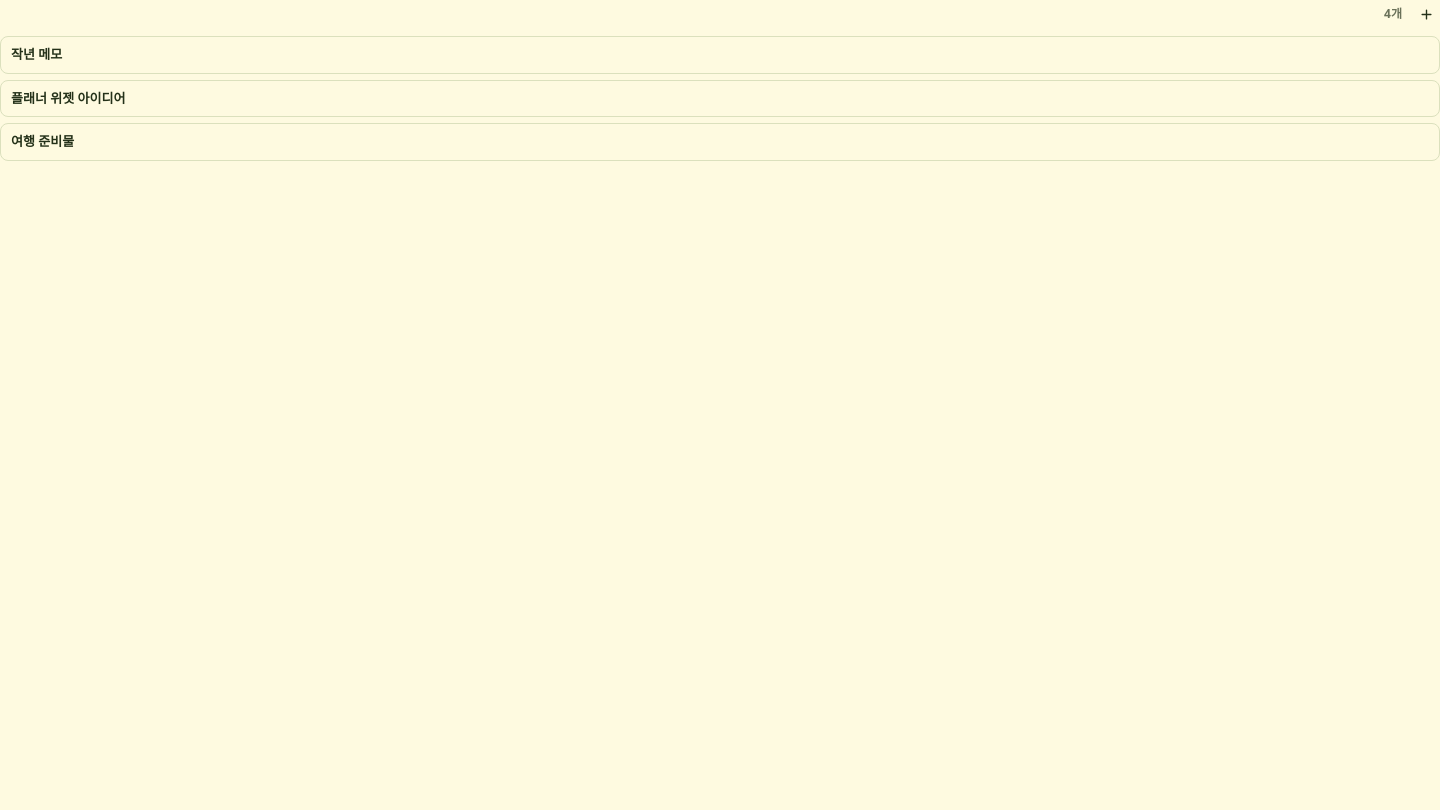
Test: PC 사이드바 메모 섹션 (US-25, D-055) › 메모 창에서 저장하면 섹션 개수도 바뀐다 (D-055)
Check: the button named "메모 4개 모두 보기" is shown, box [1378,4,1408,24]
Click the button named "새 메모".
click(1426, 14)  # box [1412,0,1439,28]
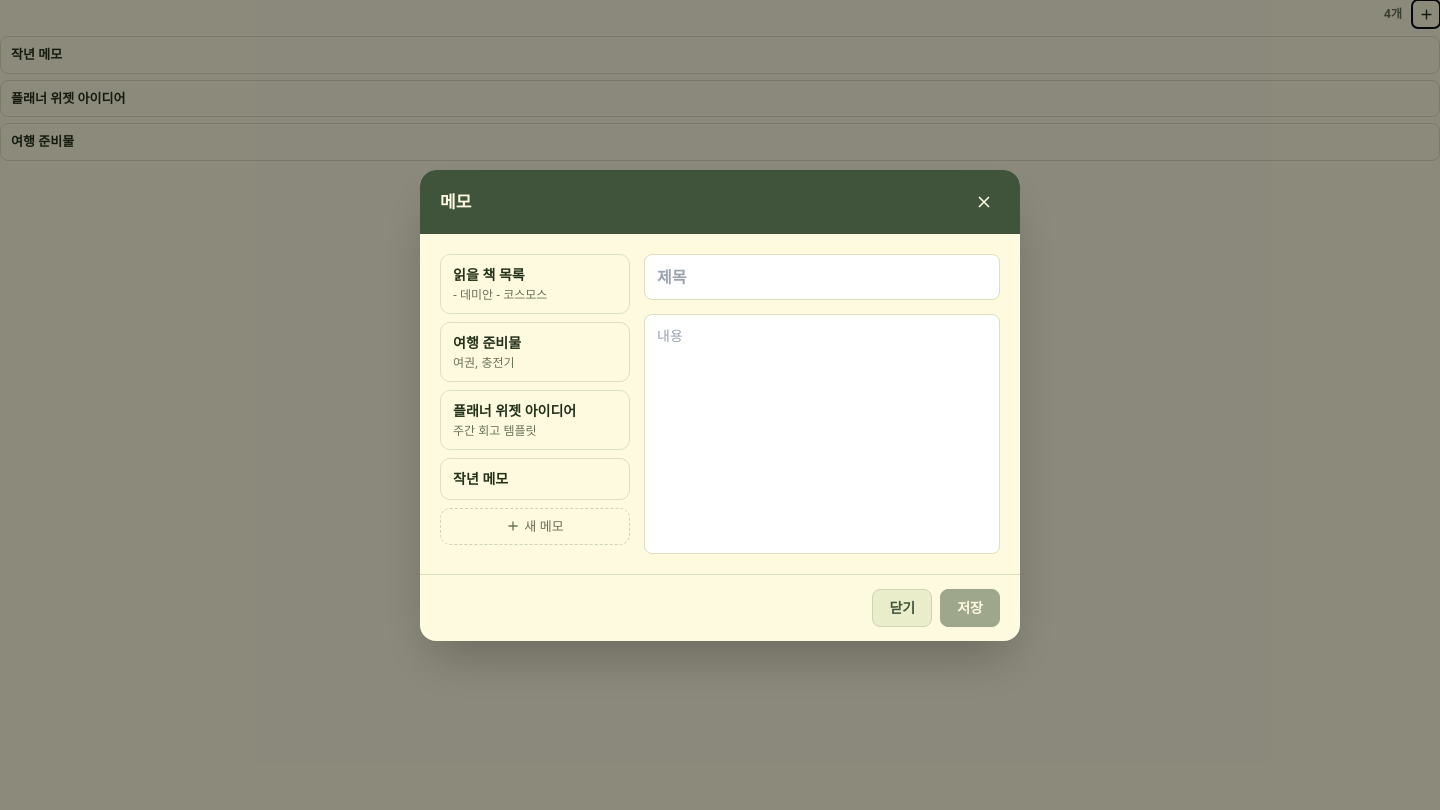
Type "장보기" into the field named "메모 제목".
click(822, 276); type("장보기")  # box [644,254,1000,300]
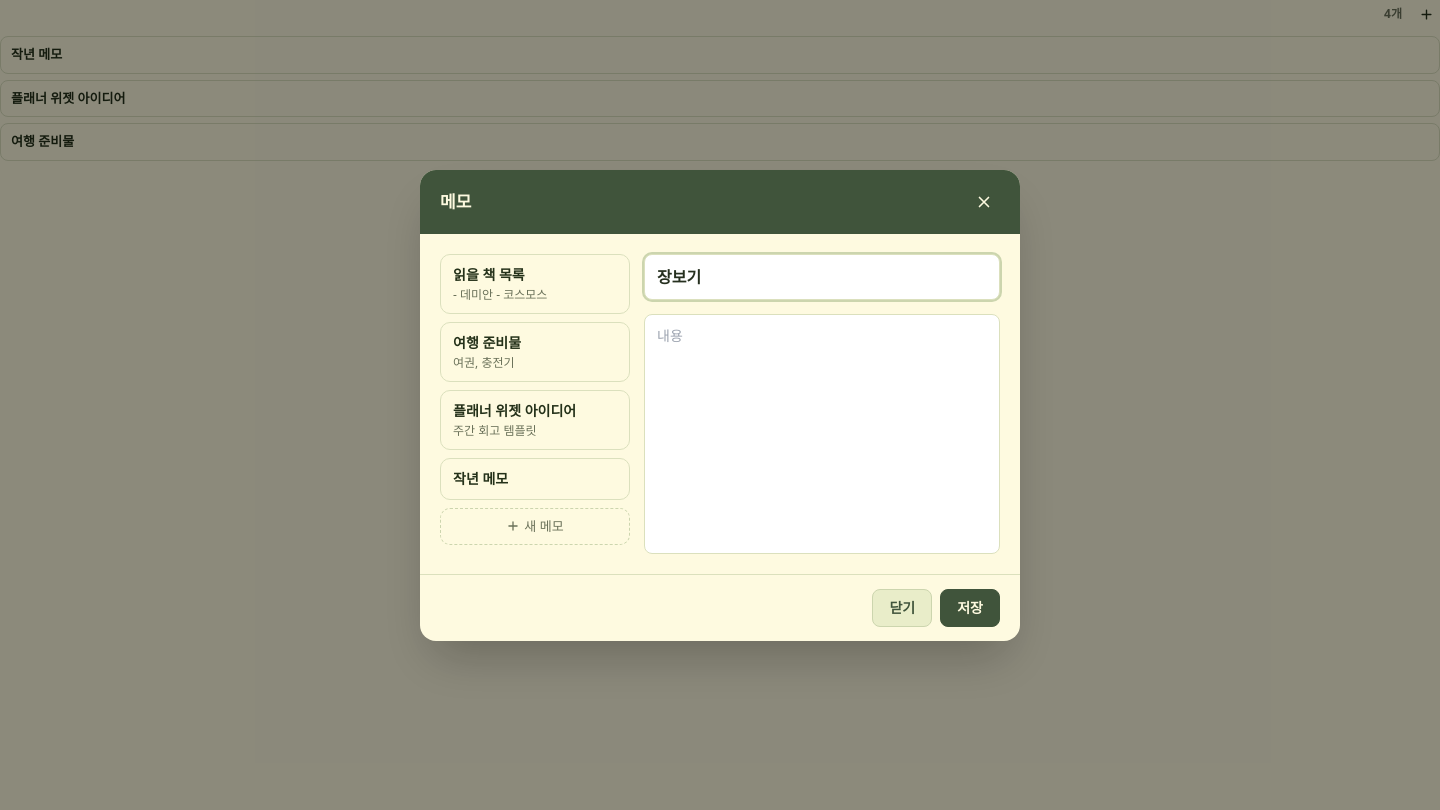
Click the button "저장".
click(970, 608)  # box [940,588,1000,626]
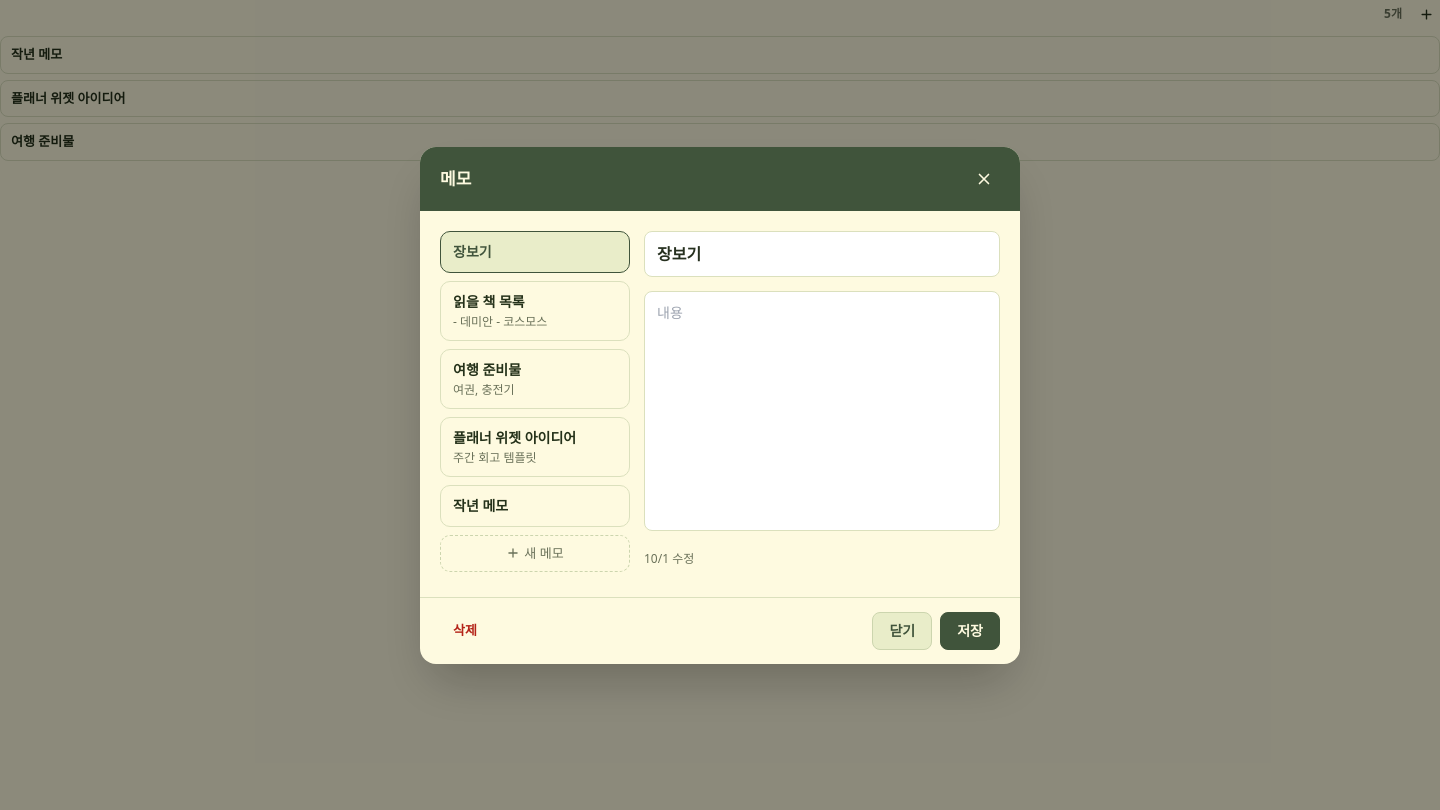
Check: the button named "메모 5개 모두 보기" is shown, box [1378,4,1408,24]
